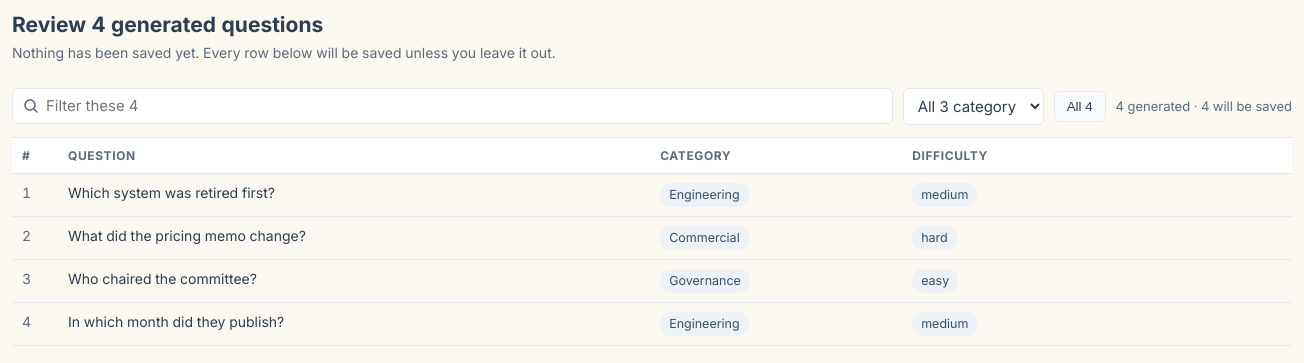
Test case: filters › a filter that matches nothing offers its own way out
The image size is (1304, 363).
Later steps or results of the test are not shown.
Type "zzz" into the field named "Filter these 4 questions". click: {"x": 464, "y": 106}
box: 46,95 -> 882,117
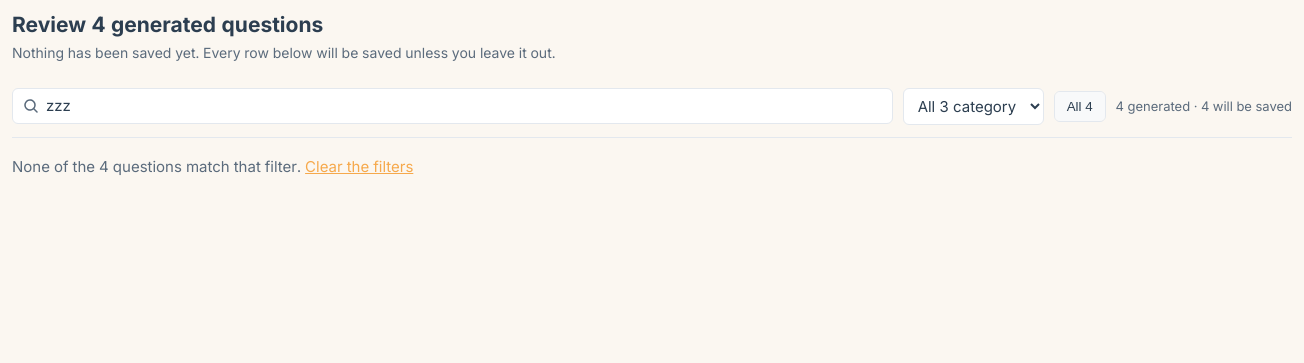
expect the text "None of the 4 questions match that filter. Clear the filters" is shown: met, box 12,156 -> 413,177
